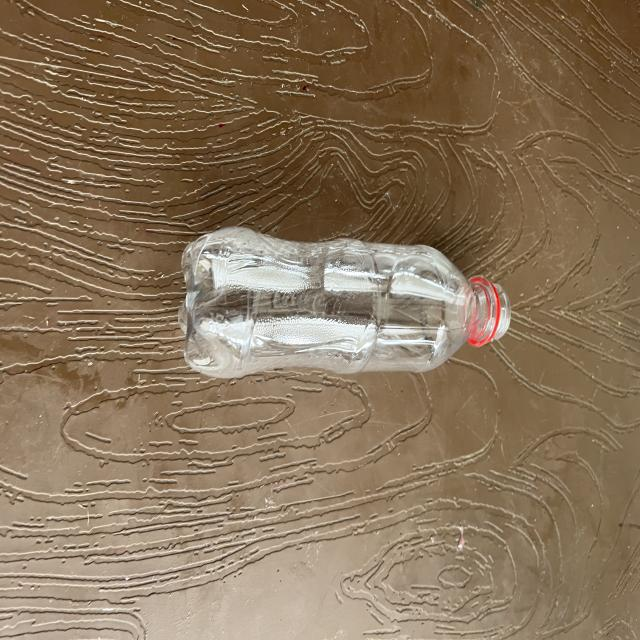PET_With_Cap: (181, 231, 516, 386)
